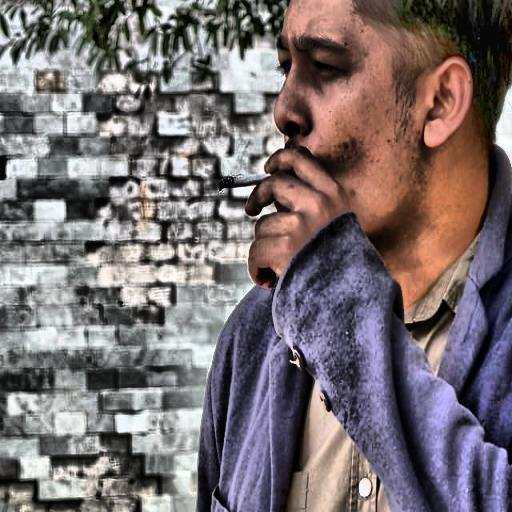Merokok: (219, 173, 270, 187)
Rokok: (222, 0, 489, 307)
